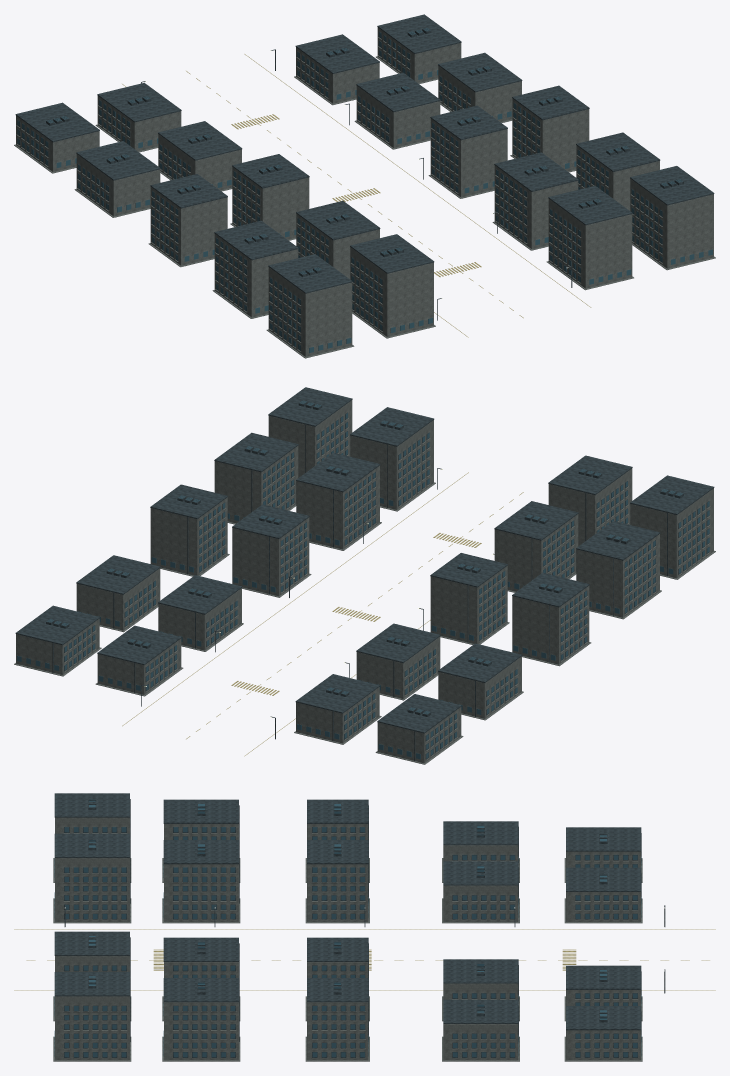
Rendered from map_0_v1.glb.
3 renders of one model, top to bottom at view 1: azimuth 30°, elevation 25°; view 2: azimuth 150°, elevation 25°; view 3: azimuth 270°, elevation 25°, orthographic.
Visible parts, largest first — view 1: aged_concrete, galvanized_steel, smoked_glass, worn_road_paint; view 2: aged_concrete, galvanized_steel, smoked_glass, worn_road_paint; view 3: galvanized_steel, aged_concrete, smoked_glass, worn_road_paint.
Boxes of the visible parts, x1=… form: aged_concrete: x1=14, y1=27, x2=715, y2=358; galvanized_steel: x1=15, y1=14, x2=714, y2=350; smoked_glass: x1=17, y1=28, x2=712, y2=353; worn_road_paint: x1=122, y1=54, x2=591, y2=337; aged_concrete: x1=14, y1=400, x2=715, y2=764; galvanized_steel: x1=15, y1=387, x2=714, y2=761; smoked_glass: x1=17, y1=401, x2=709, y2=759; worn_road_paint: x1=122, y1=472, x2=523, y2=756; galvanized_steel: x1=54, y1=793, x2=665, y2=1057; aged_concrete: x1=53, y1=817, x2=642, y2=1061; smoked_glass: x1=54, y1=799, x2=641, y2=1057; worn_road_paint: x1=14, y1=929, x2=715, y2=990.
Size of what is drawn, in the model's own units: 141 by 22.14 by 206.
5 materials, 3 textured.
